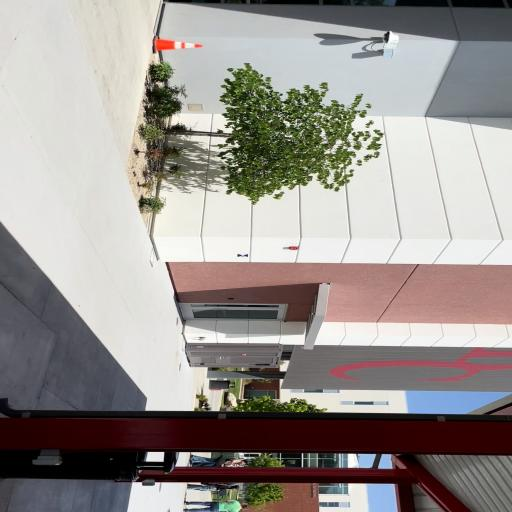target6: (237, 254, 248, 258)
